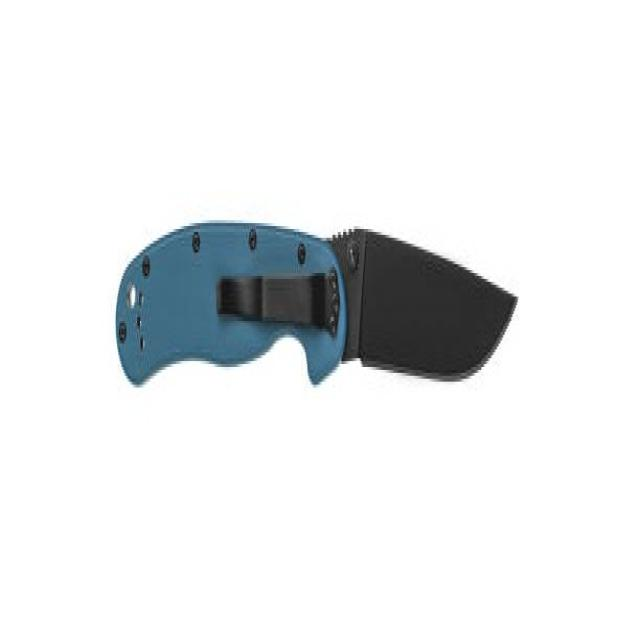knife: (99, 208, 524, 460)
